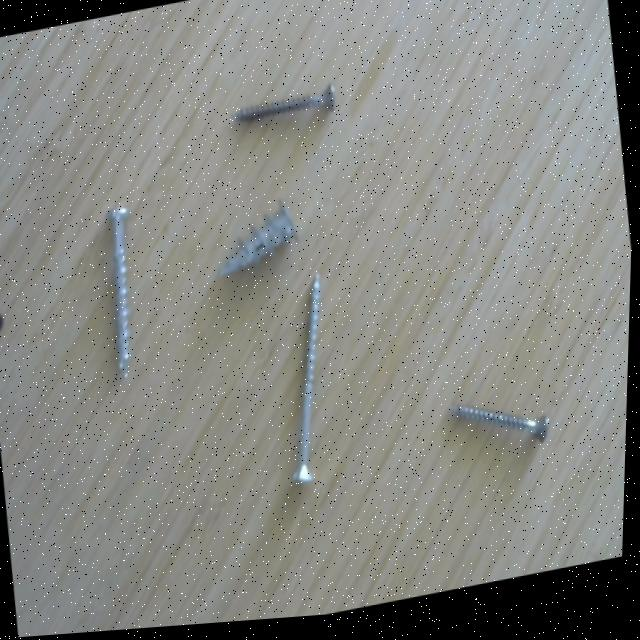Black screw: (443, 378, 559, 474), (226, 83, 345, 142)
Long screw: (265, 271, 351, 495)
Medium screw: (89, 193, 159, 395)
Short screw: (207, 196, 311, 288)
